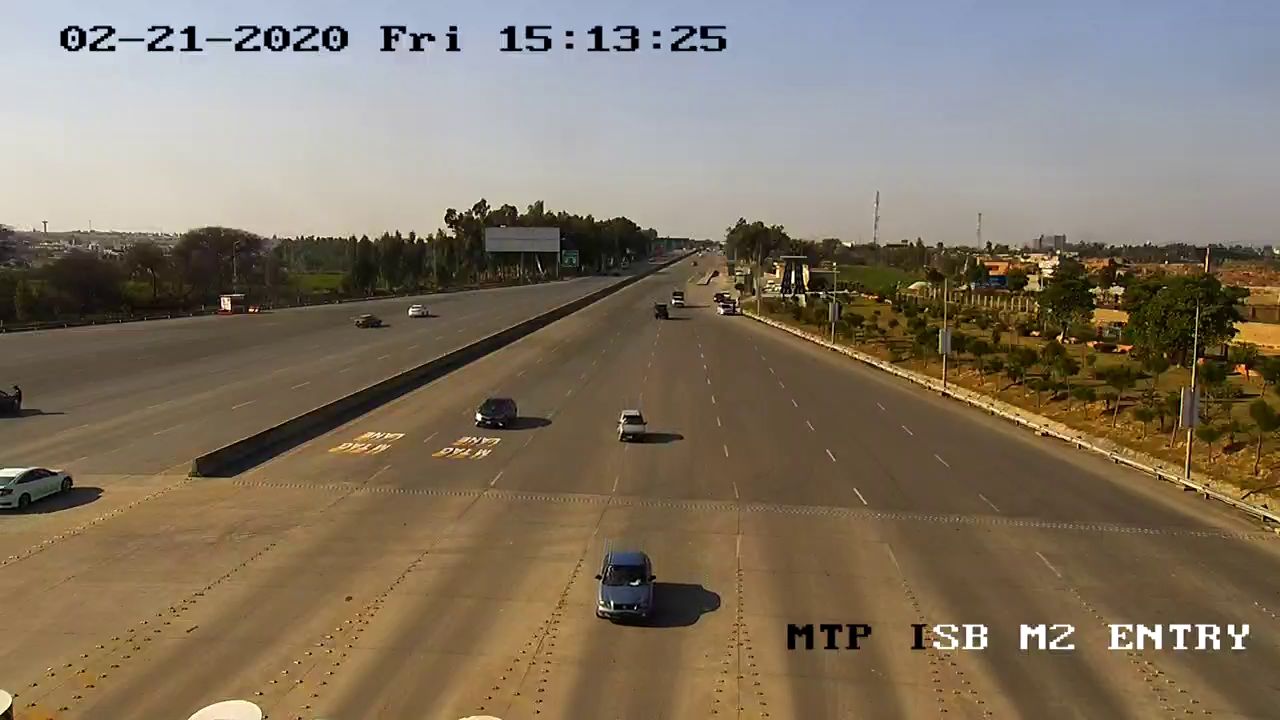f1: (593, 542, 661, 631), (473, 393, 521, 433), (613, 402, 653, 446)
